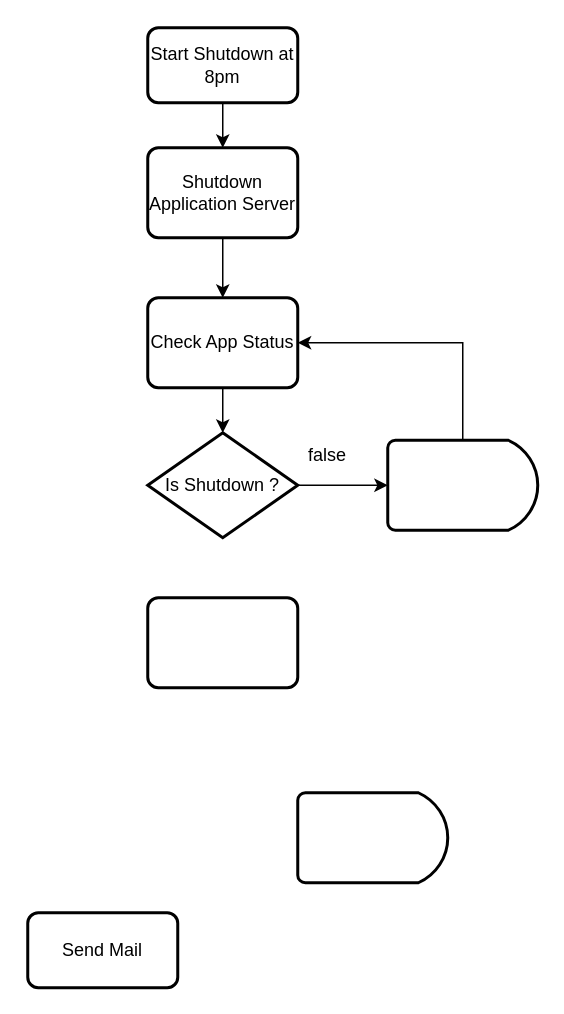
Some shapes in this 564 by 1014 pixel diagram are drawn without their labels. The shapes that lost their labels are listed below. From the top down, each one's centre as x and y in pixels, then its label:
At pixel 462 484: "Wait for Shutdown AppServer".
At pixel 222 642: "Shutdown DB".
At pixel 372 837: "Wait for DB Shutdown".
